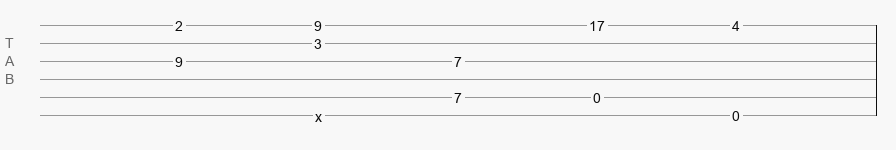0: (593, 90, 601, 100), (732, 108, 740, 118)
17: (589, 18, 605, 28)
2: (175, 18, 183, 28)
3: (314, 36, 322, 46)
4: (732, 18, 740, 28)
7: (454, 54, 462, 64), (454, 90, 462, 100)
9: (175, 54, 183, 64), (314, 18, 322, 28)
x: (315, 109, 322, 117)
